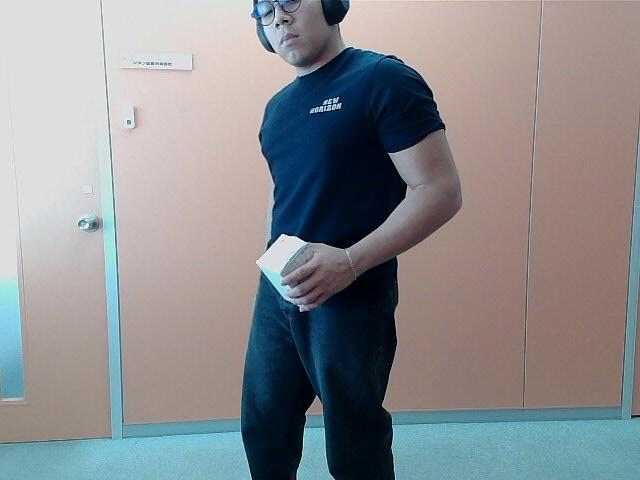Blind_box: (254, 233, 323, 313)
